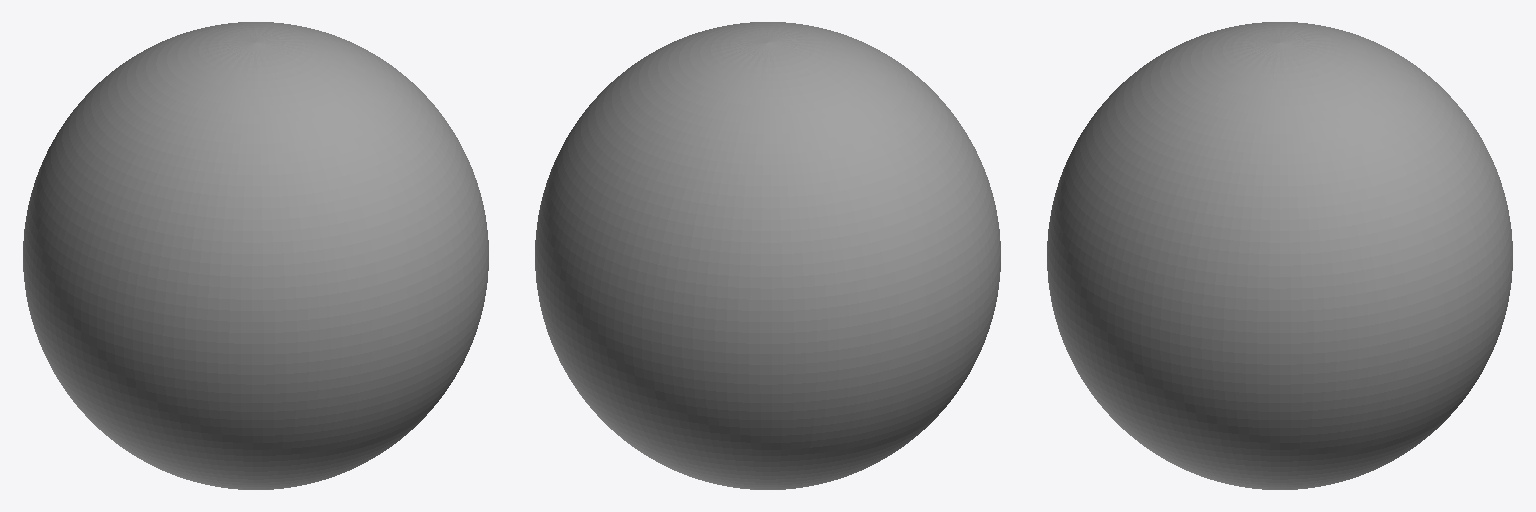
Rendered from UVMap1.obj.
The picture shows the model from 3 angles: view 1: azimuth 30°, elevation 25°; view 2: azimuth 150°, elevation 25°; view 3: azimuth 270°, elevation 25°; orthographic projection.
Parts seen in each view (by area): view 1: Sphere; view 2: Sphere; view 3: Sphere.
Part boxes in pixels (x1,y1,x2,y2): Sphere: (23, 22, 488, 489); Sphere: (535, 22, 1000, 489); Sphere: (1047, 22, 1512, 489).
Bounding box in the file's own units: 1.98 × 2 × 1.98.